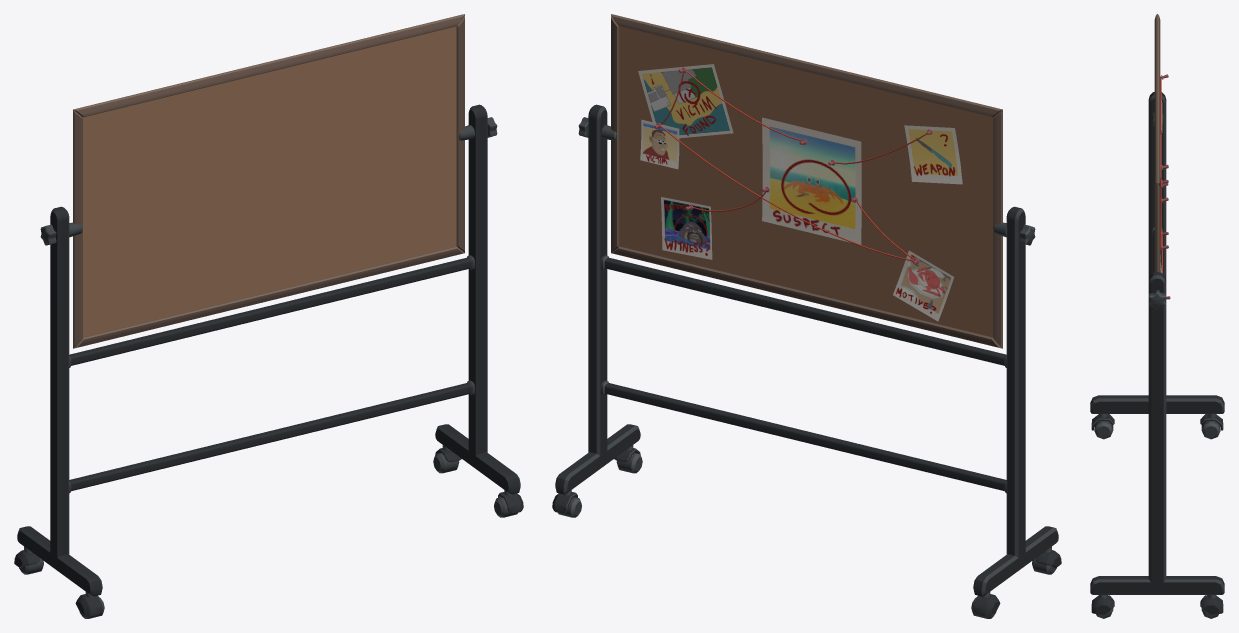
File: SuspectBoardFBX.fbx
3 renders of one model, left to right at view 1: azimuth 30°, elevation 25°; view 2: azimuth 150°, elevation 25°; view 3: azimuth 270°, elevation 25°, orthographic. The views are drawn at different scales.
Parts seen in each view (by area): view 1: board, stand; view 2: board, stand; view 3: stand, board.
Boxes of the visible parts, x1,y1,x2,y2 form: board: [40, 14, 497, 348]; stand: [14, 104, 523, 618]; board: [578, 14, 1035, 348]; stand: [552, 104, 1061, 618]; stand: [1090, 92, 1224, 618]; board: [1149, 14, 1170, 309].
Bounding box in the file's own units: 208 × 213 × 60.69.
